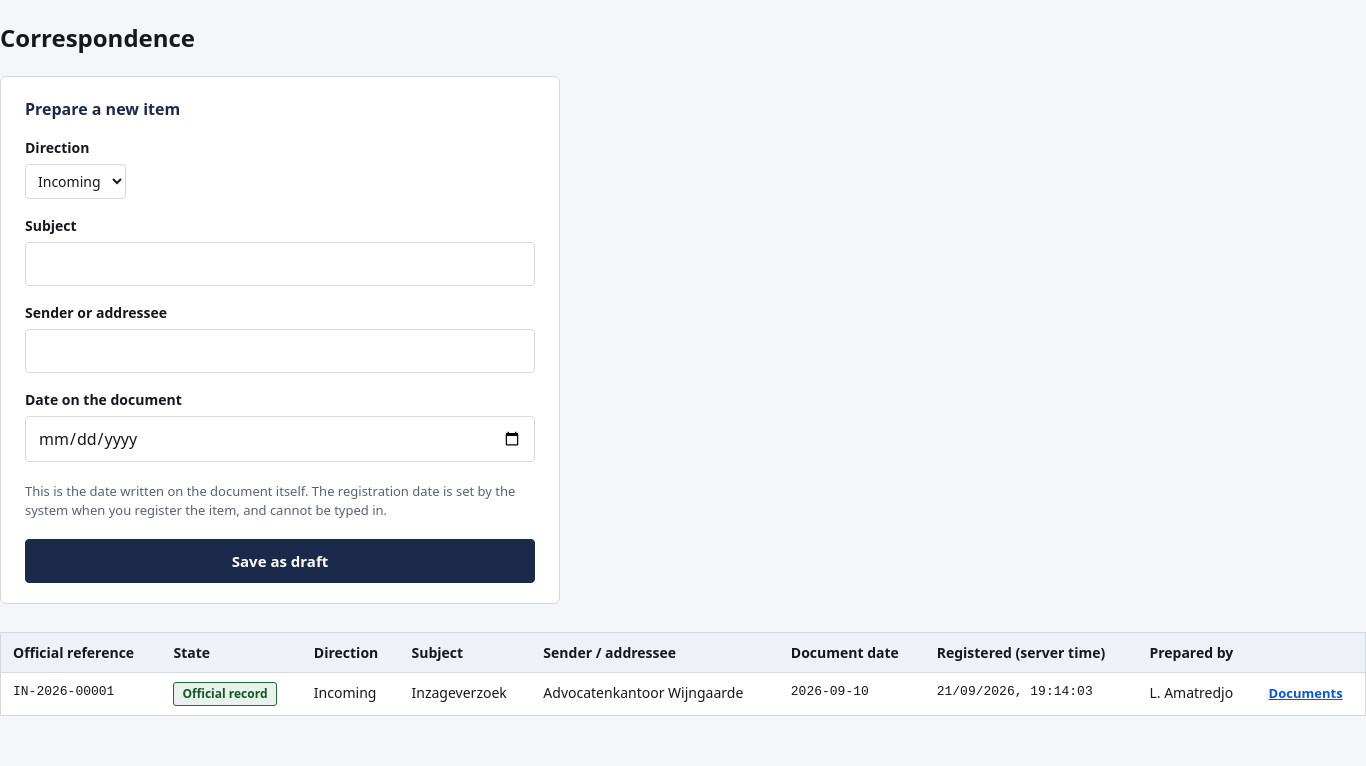
Test: Registration duplicate warning › derived text (FR-COR-015) › warns when the text does not match the document it sits under
Click the button "Documents" at (1306, 693), box top-left (1269, 684), bottom-right (1343, 702)
(page scrolled)
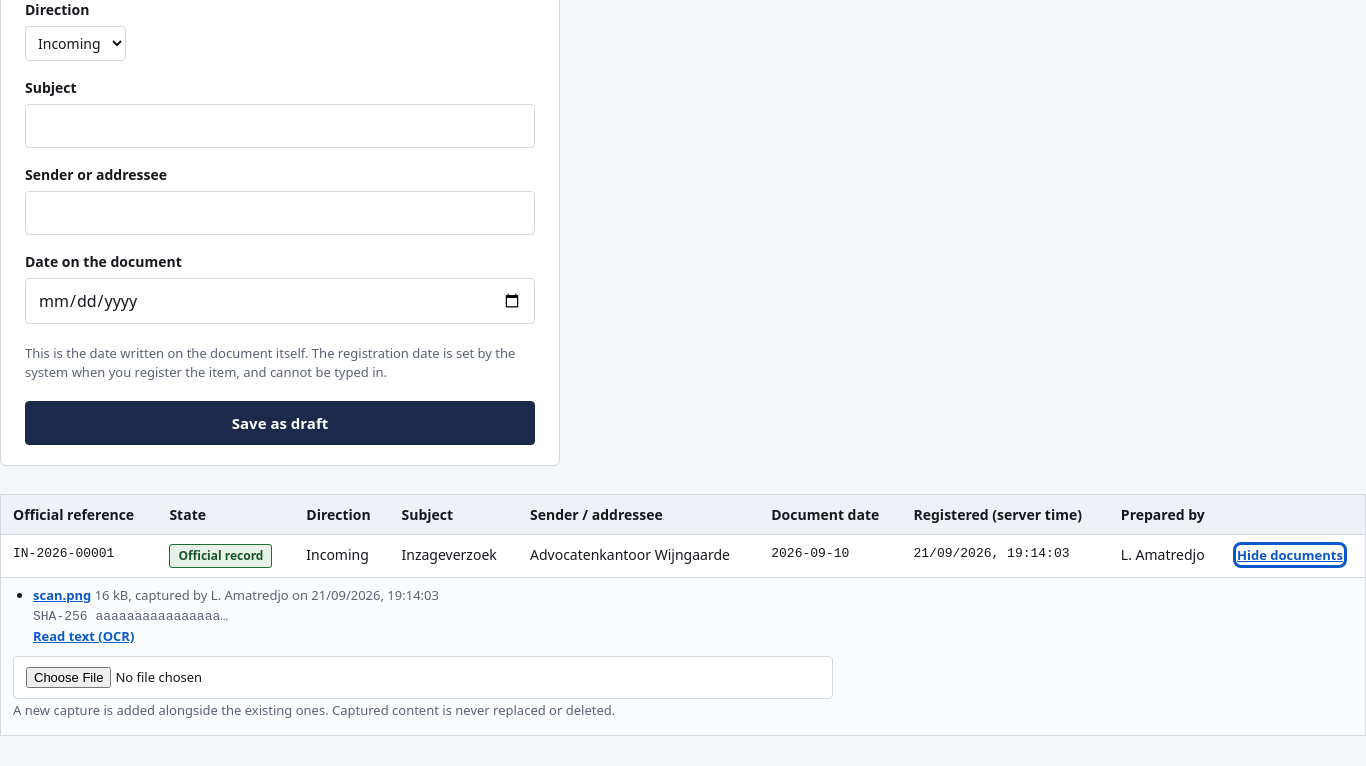
Click the button "Read text (OCR)" at (84, 636), box top-left (33, 627), bottom-right (134, 645)
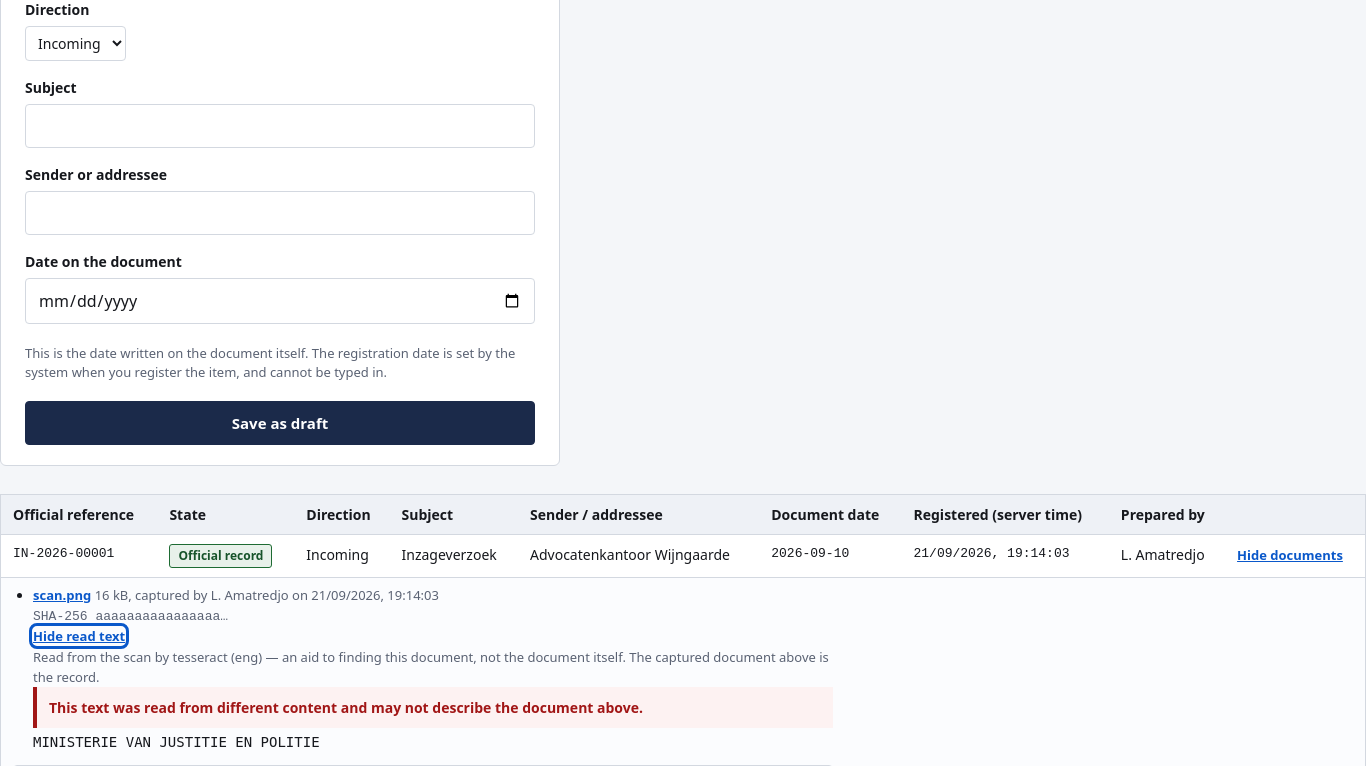
Expected: the message shows "may not describe the document", top-left (49, 698), bottom-right (643, 717)
